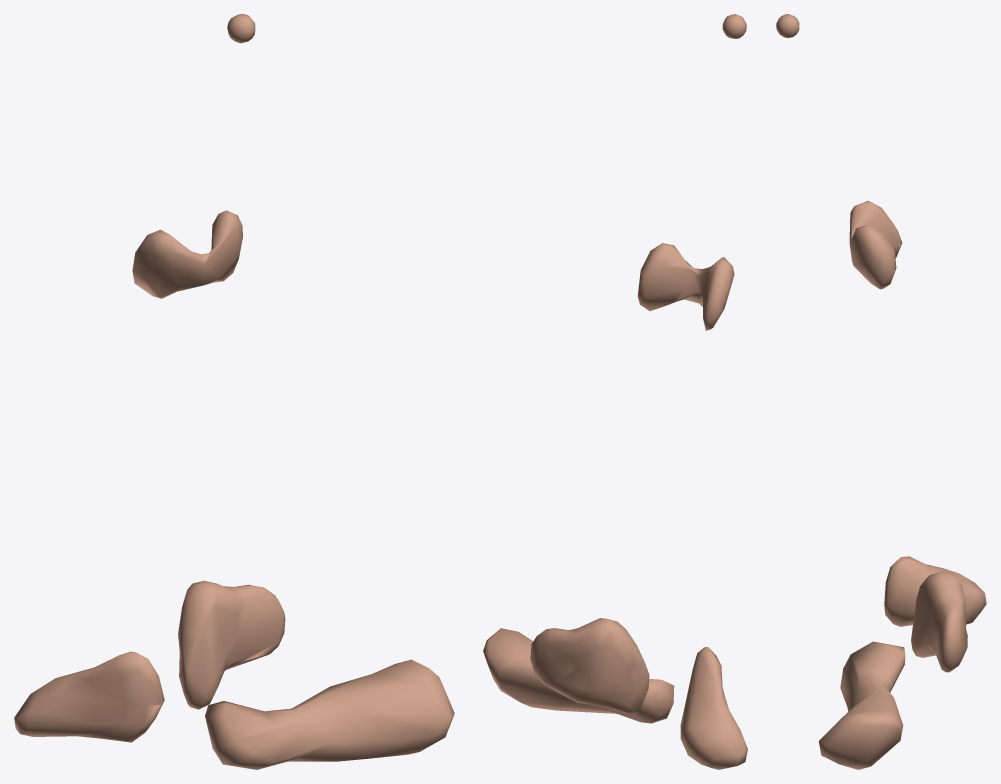
File: pediatric_neonate_female.endocrine.LOD2.glb
The picture shows the model from 3 angles, left to right: view 1: azimuth 30°, elevation 25°; view 2: azimuth 150°, elevation 25°; view 3: azimuth 270°, elevation 25°; orthographic projection. The views are drawn at different scales.
Parts seen in each view (by area): view 1: PEDIATRIC.NEONATE.FEMALE.ENDOCRINE.PANCREAS, PEDIATRIC.NEONATE.FEMALE.ENDOCRINE.ADRENAL.R, PEDIATRIC.NEONATE.FEMALE.ENDOCRINE.ADRENAL.L, PEDIATRIC.NEONATE.FEMALE.ENDOCRINE.THYROID; view 2: PEDIATRIC.NEONATE.FEMALE.ENDOCRINE.ADRENAL.L, PEDIATRIC.NEONATE.FEMALE.ENDOCRINE.PANCREAS, PEDIATRIC.NEONATE.FEMALE.ENDOCRINE.ADRENAL.R, PEDIATRIC.NEONATE.FEMALE.ENDOCRINE.THYROID, PEDIATRIC.NEONATE.FEMALE.ENDOCRINE.PITUITARY_GLAND; view 3: PEDIATRIC.NEONATE.FEMALE.ENDOCRINE.PANCREAS, PEDIATRIC.NEONATE.FEMALE.ENDOCRINE.ADRENAL.L, PEDIATRIC.NEONATE.FEMALE.ENDOCRINE.THYROID, PEDIATRIC.NEONATE.FEMALE.ENDOCRINE.ADRENAL.R, PEDIATRIC.NEONATE.FEMALE.ENDOCRINE.PITUITARY_GLAND.
Boxes of the visible parts, x1,y1,x2,y2 form: PEDIATRIC.NEONATE.FEMALE.ENDOCRINE.PANCREAS: (205,659,454,769); PEDIATRIC.NEONATE.FEMALE.ENDOCRINE.ADRENAL.R: (14,651,164,742); PEDIATRIC.NEONATE.FEMALE.ENDOCRINE.ADRENAL.L: (178,580,285,709); PEDIATRIC.NEONATE.FEMALE.ENDOCRINE.THYROID: (132,210,242,298); PEDIATRIC.NEONATE.FEMALE.ENDOCRINE.ADRENAL.L: (530,618,649,713); PEDIATRIC.NEONATE.FEMALE.ENDOCRINE.PANCREAS: (483,628,674,723); PEDIATRIC.NEONATE.FEMALE.ENDOCRINE.ADRENAL.R: (680,647,747,769); PEDIATRIC.NEONATE.FEMALE.ENDOCRINE.THYROID: (637,243,734,330); PEDIATRIC.NEONATE.FEMALE.ENDOCRINE.PITUITARY_GLAND: (722,14,746,38); PEDIATRIC.NEONATE.FEMALE.ENDOCRINE.PANCREAS: (819,641,905,769); PEDIATRIC.NEONATE.FEMALE.ENDOCRINE.ADRENAL.L: (911,571,967,672); PEDIATRIC.NEONATE.FEMALE.ENDOCRINE.THYROID: (849,201,902,289); PEDIATRIC.NEONATE.FEMALE.ENDOCRINE.ADRENAL.R: (884,556,986,626); PEDIATRIC.NEONATE.FEMALE.ENDOCRINE.PITUITARY_GLAND: (776,14,799,37).
Size of the model in its own units: 0.0853 by 0.1854 by 0.0527.
